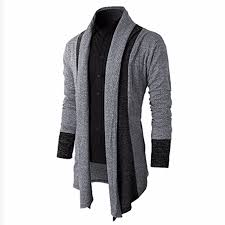C_cardigan sweater: (47, 11, 184, 201)
